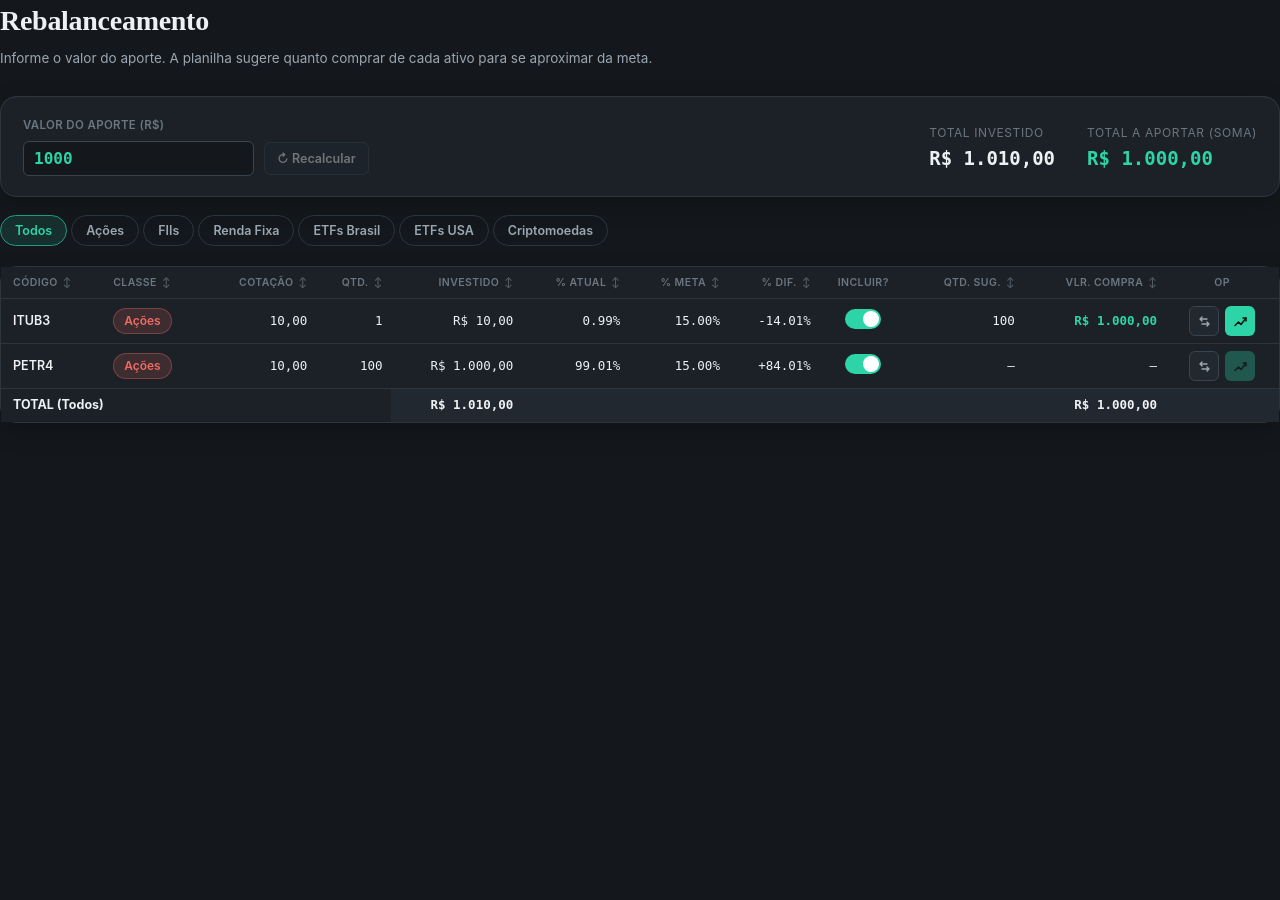
Rebalanceamento — modal manual de compra/venda › compra manual: preview do valor, confirmação atualiza posição, toast e fecha o modal
Click the button titled "Lançar operação manualmente" in the row of "ITUB3" at [1204, 321], box [1189,306,1219,336]
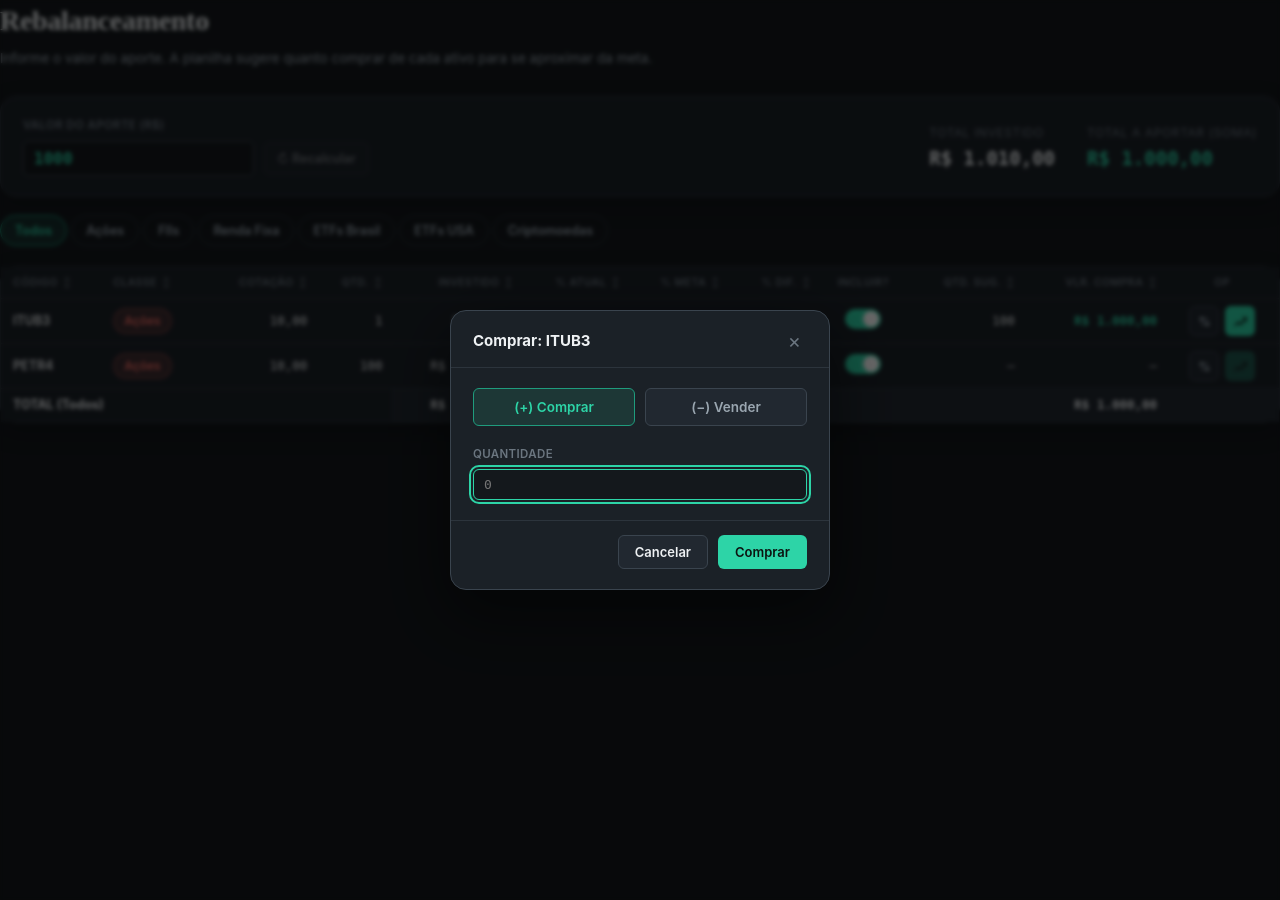
Type "5" into the number field with placeholder "0" at [640, 485], box [473,469,807,500]
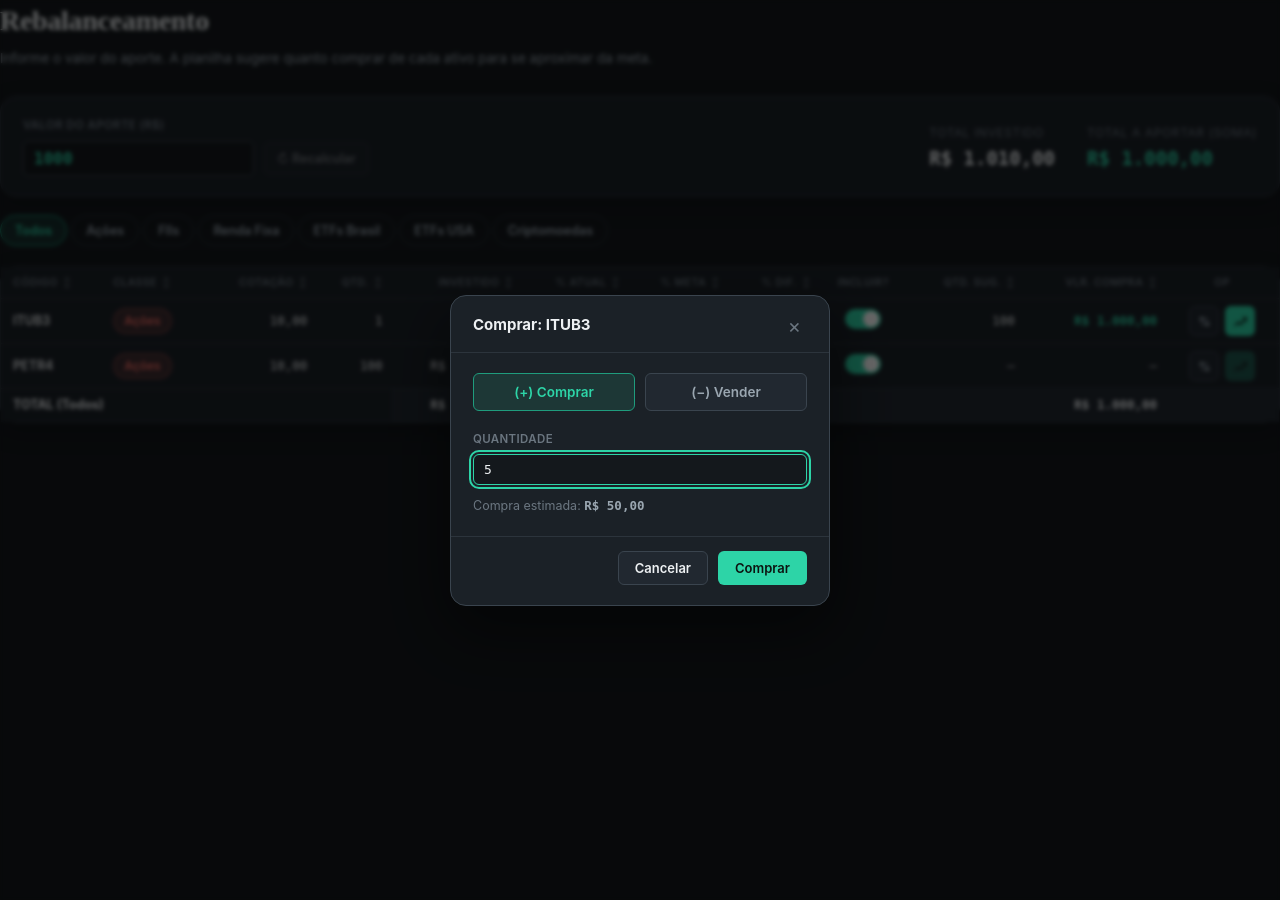
Check: the text "Compra estimada: R$ 50,00" is shown, box [473,498,644,513]
Click the button "Comprar" at [762, 568], box [718,550,807,584]
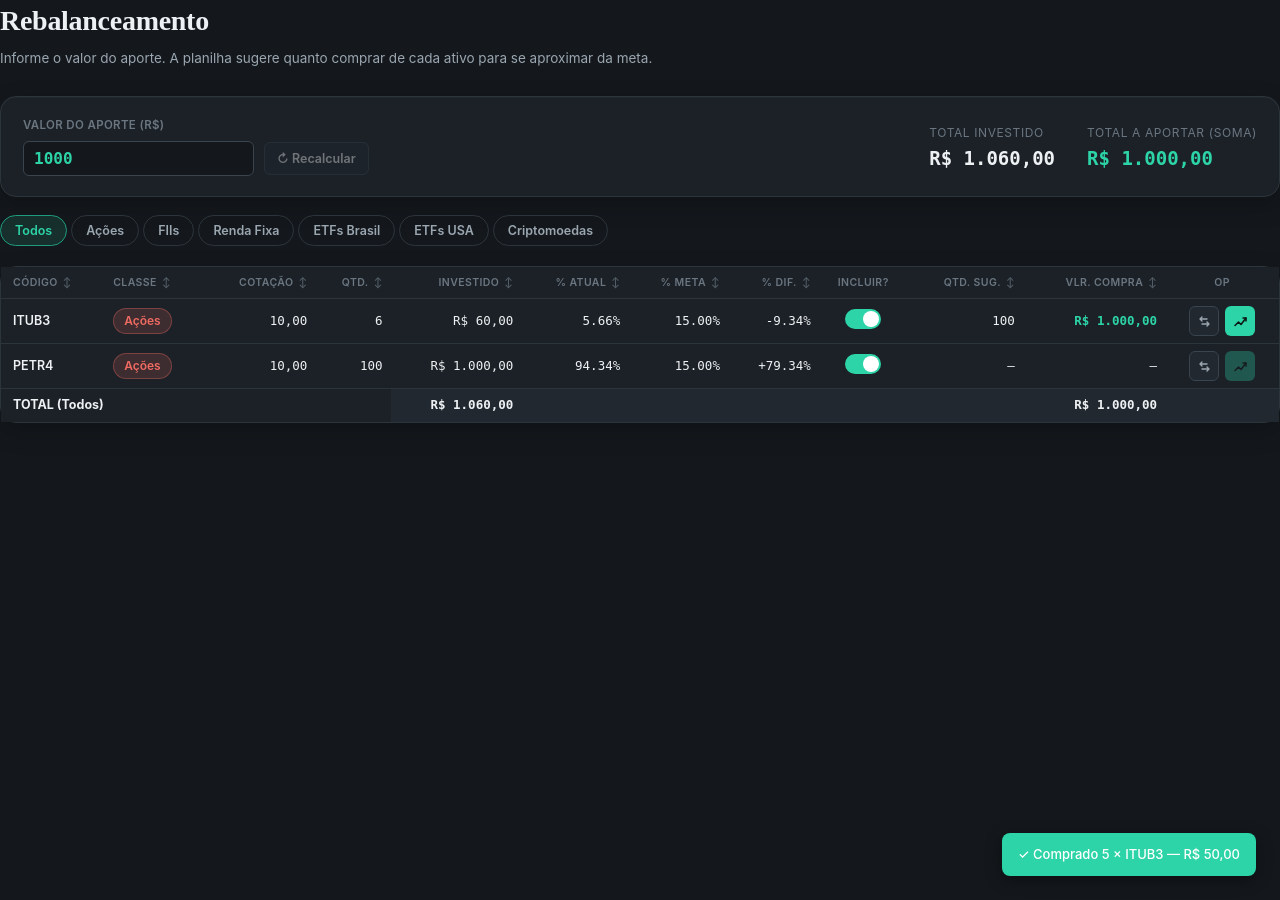
Check: the element with class "modal-caixa" is gone
Check: the text "6" is shown, box [315,299,391,344]
Check: the text "✓ Comprado 5 × ITUB3 — R$ 50,00" is shown, box [1002,832,1256,876]
